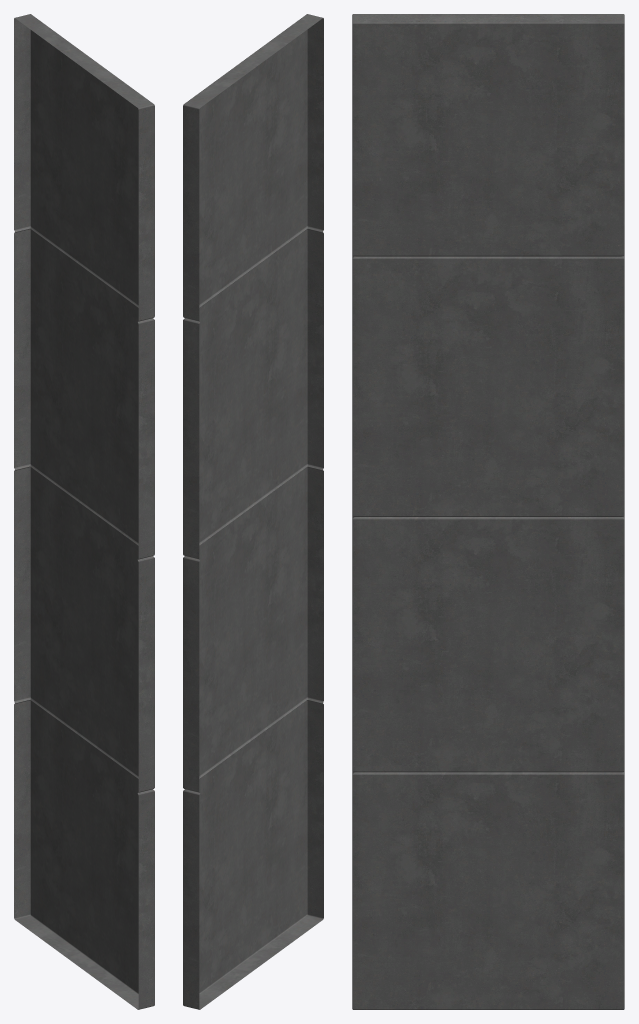
File: cP_Pathway04_05.dae
The picture shows the model from 3 angles, left to right: view 1: azimuth 30°, elevation 25°; view 2: azimuth 150°, elevation 25°; view 3: azimuth 270°, elevation 25°; orthographic projection. The views are drawn at different scales.
Parts seen in each view (by area): view 1: cP_Pathway04_05.001; view 2: cP_Pathway04_05.001; view 3: cP_Pathway04_05.001.
Part boxes in pixels (bbox=[...]): cP_Pathway04_05.001: bbox=[14, 14, 154, 1009]; cP_Pathway04_05.001: bbox=[183, 14, 323, 1009]; cP_Pathway04_05.001: bbox=[352, 14, 624, 1009].
Bounding box in the file's own units: 0.3104 × 4 × 16.
